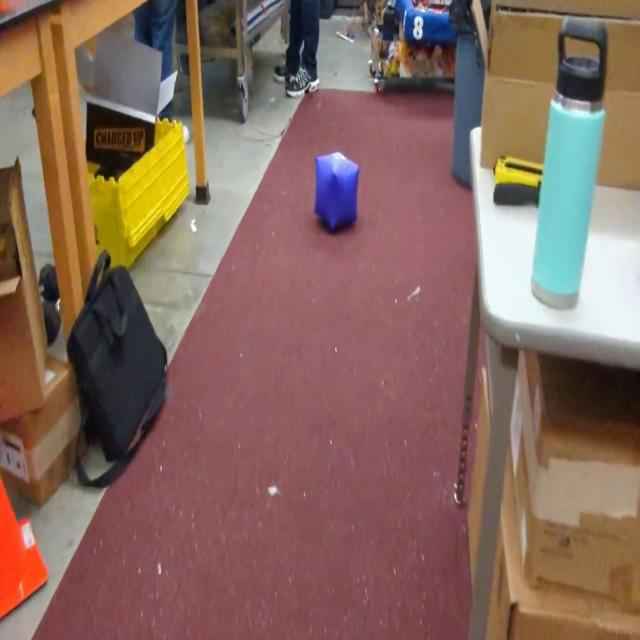frc_cube: (314, 149, 362, 234)
